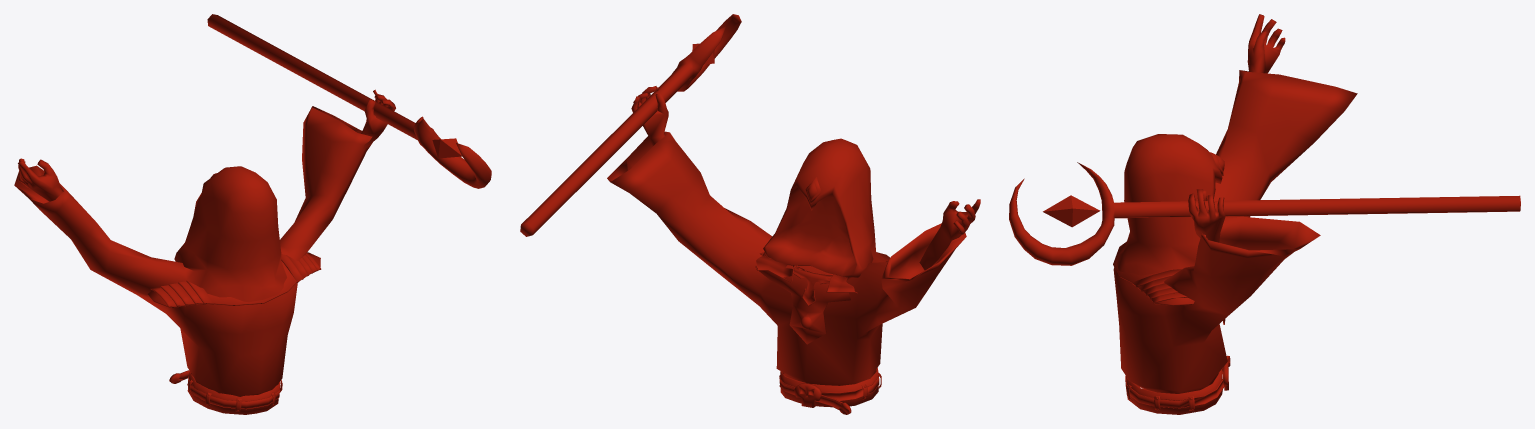
File: top_000029.obj
3 views of the same model, side by side, from view 1: azimuth 30°, elevation 25°; view 2: azimuth 150°, elevation 25°; view 3: azimuth 270°, elevation 25° (orthographic). The views are drawn at different scales.
Visible parts, largest first — view 1: LowPoly_Warlock.000_Plane.005; view 2: LowPoly_Warlock.000_Plane.005; view 3: LowPoly_Warlock.000_Plane.005.
Part boxes in pixels (x1,y1,x2,y2): LowPoly_Warlock.000_Plane.005: (14,14,491,414); LowPoly_Warlock.000_Plane.005: (520,14,980,414); LowPoly_Warlock.000_Plane.005: (1009,14,1520,414).
Bounding box in the file's own units: 1.8 × 1.27 × 1.9.
